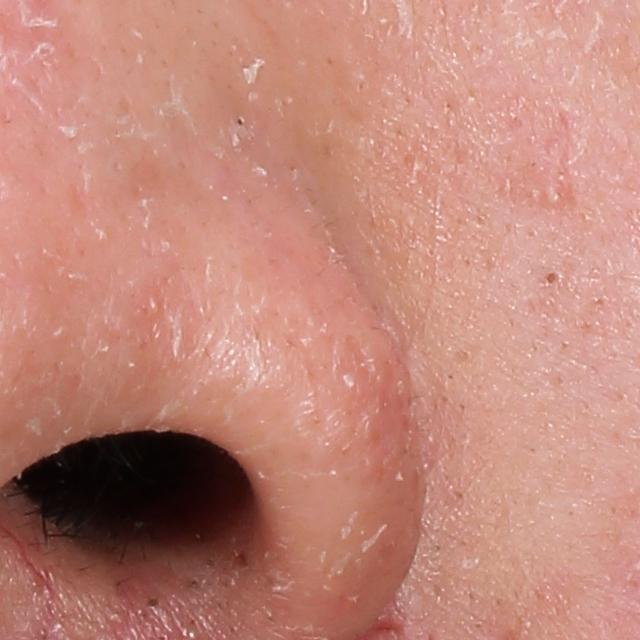comedo: (543, 268, 560, 288)
